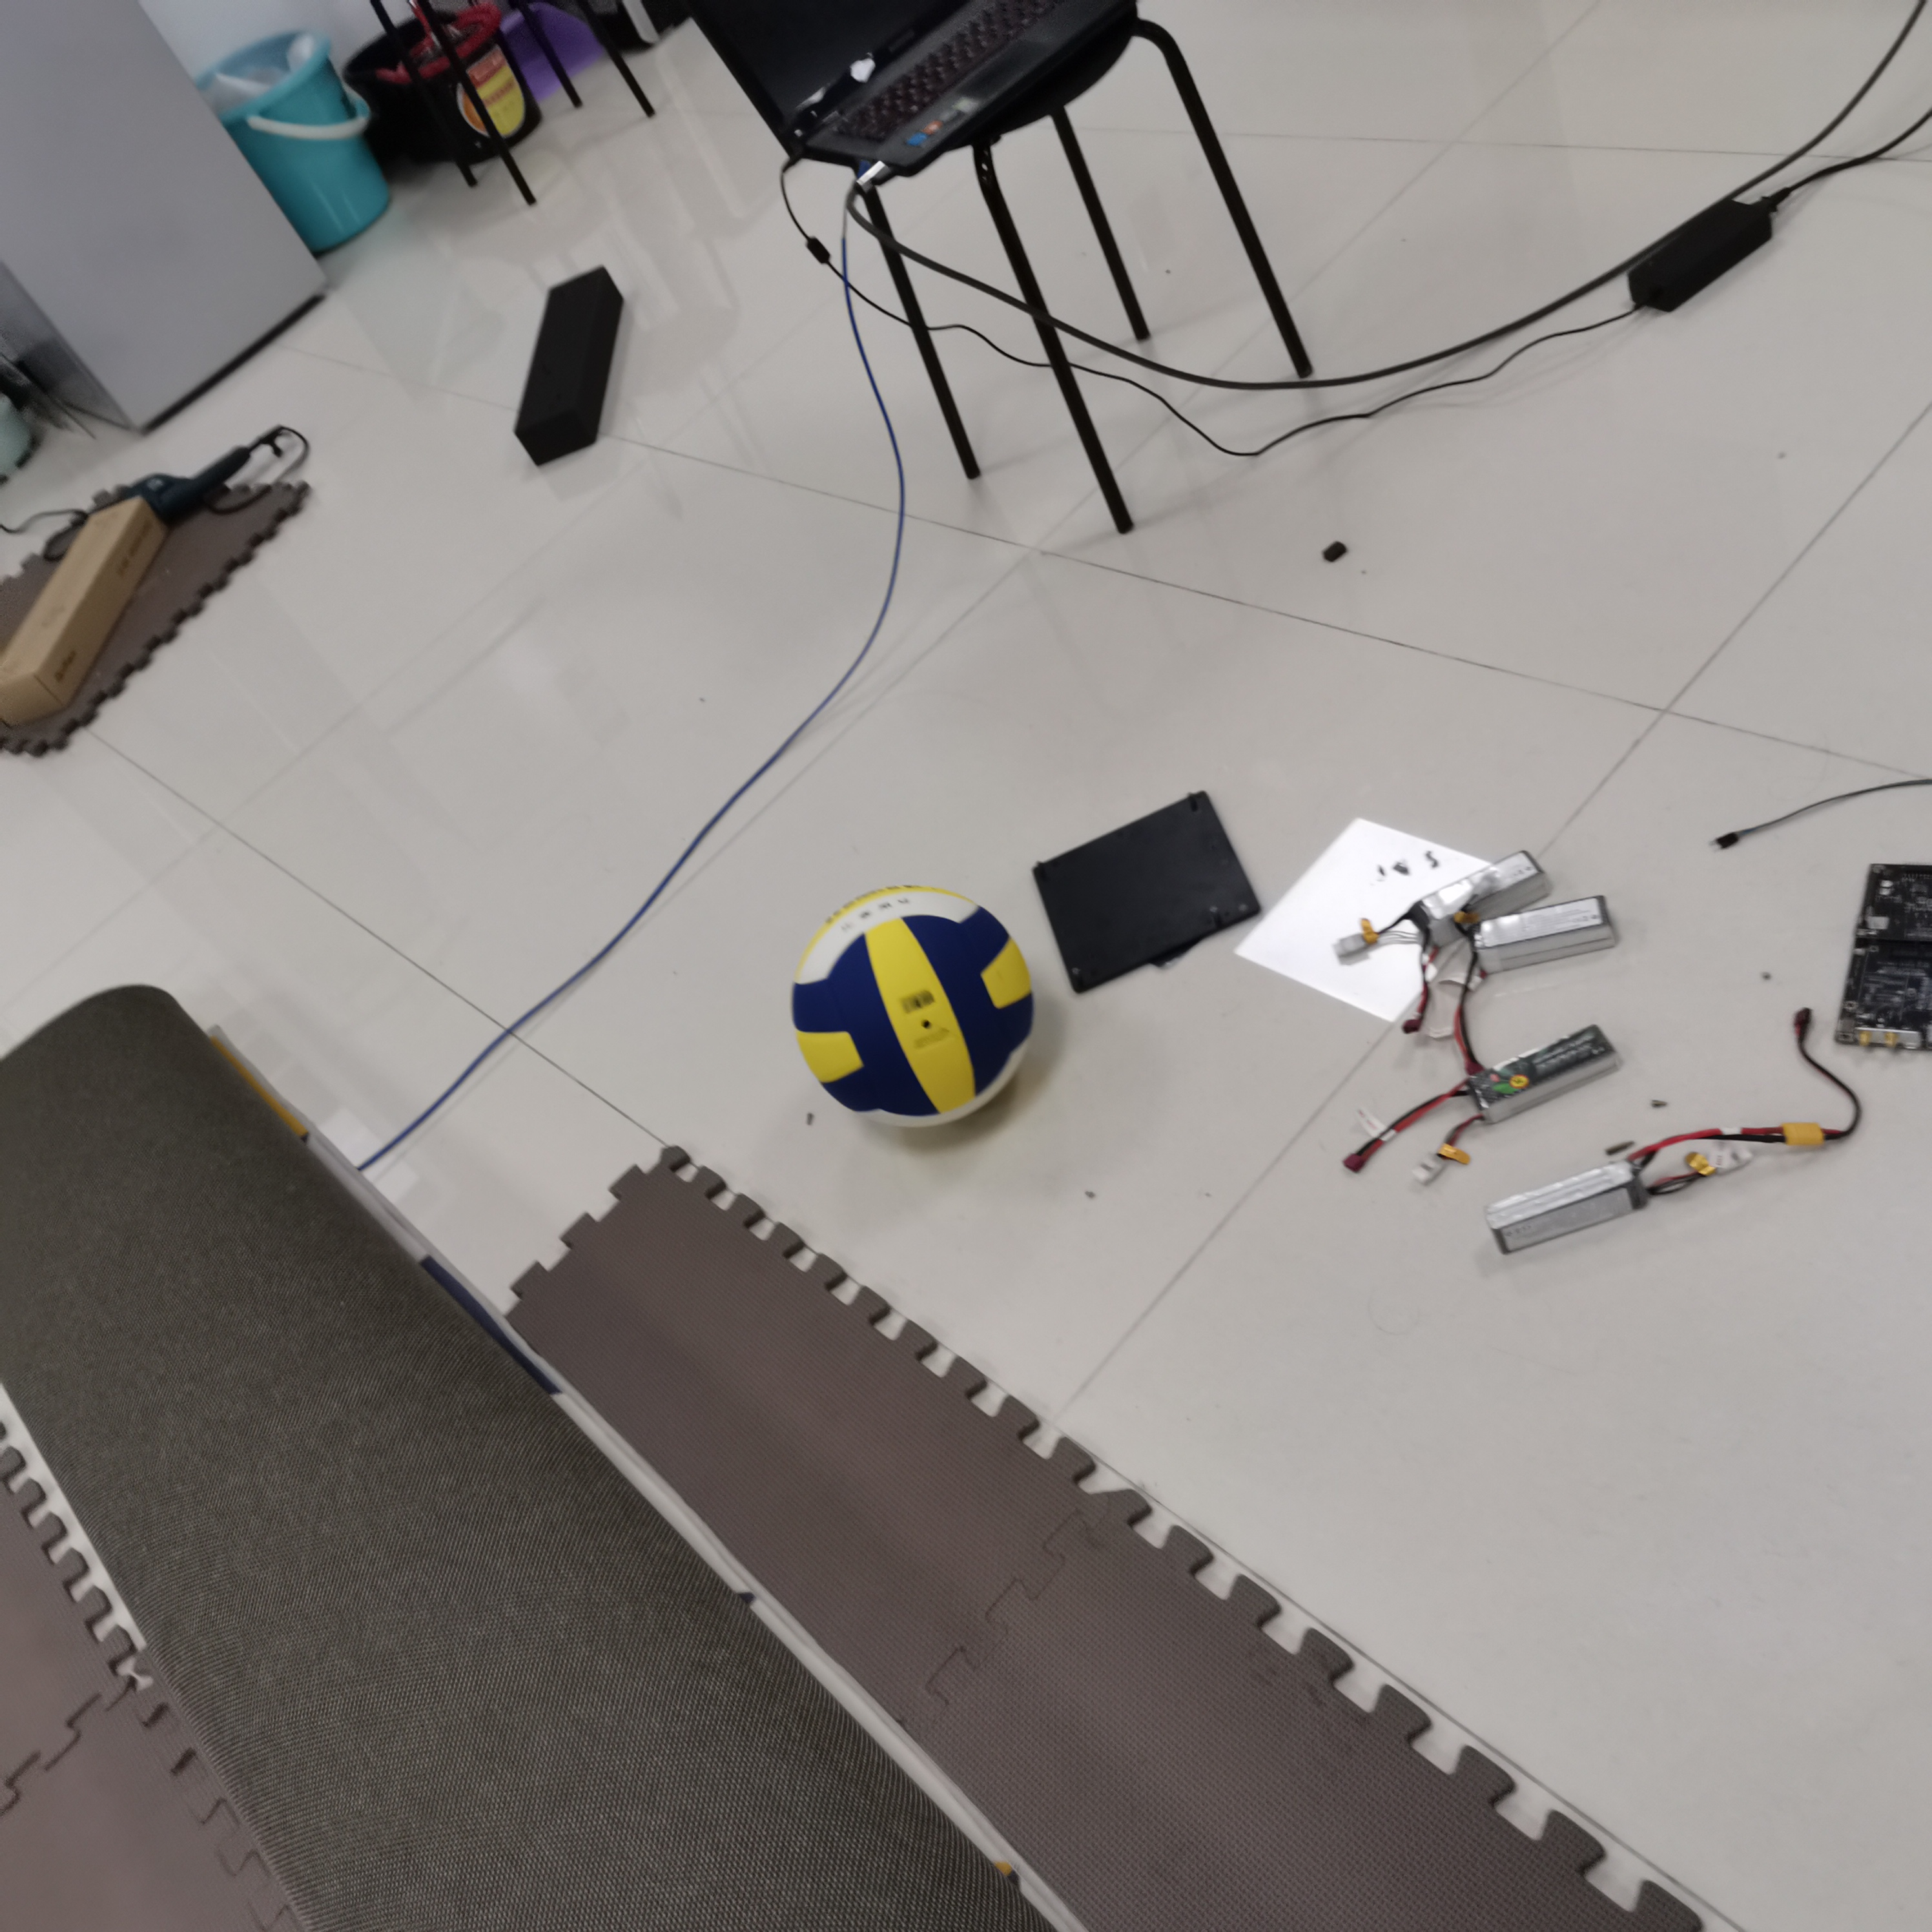volleyball: (791, 881, 1042, 1132)
